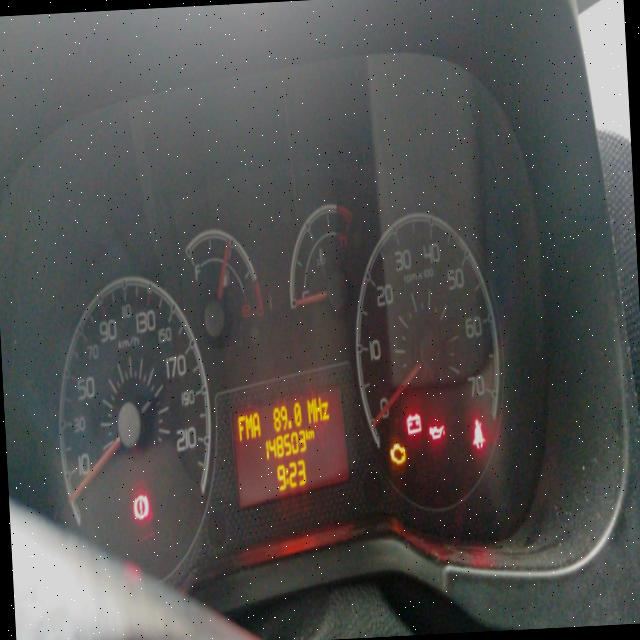odometer: (228, 381, 352, 512)
